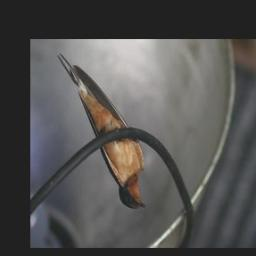Swallow: (53, 52, 150, 214)
